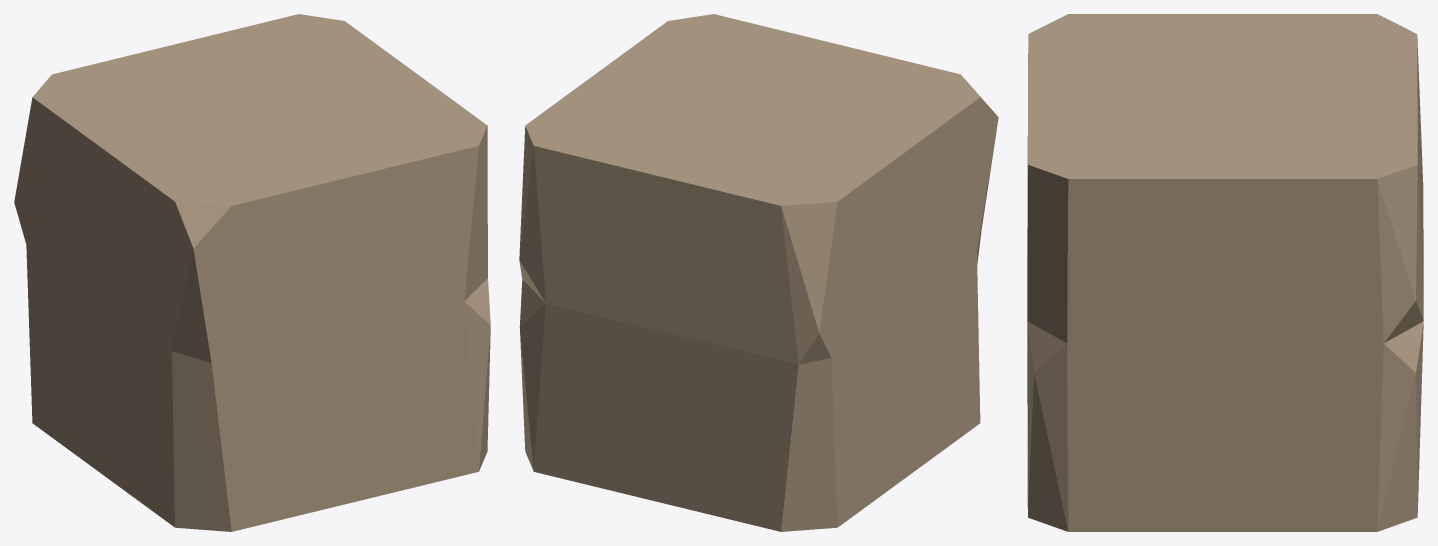
The model's file is Cube Block_3.fbx.
The picture shows the model from 3 angles, left to right: view 1: azimuth 30°, elevation 25°; view 2: azimuth 150°, elevation 25°; view 3: azimuth 270°, elevation 25°; orthographic projection. The views are drawn at different scales.
Parts seen in each view (by area): view 1: Cube Block_3; view 2: Cube Block_3; view 3: Cube Block_3.
Boxes of the visible parts, bbox=[...] form: Cube Block_3: bbox=[14, 14, 490, 531]; Cube Block_3: bbox=[519, 14, 998, 531]; Cube Block_3: bbox=[1027, 14, 1423, 531].
Size of the model in its own units: 0.5409 by 0.5394 by 0.5492.
